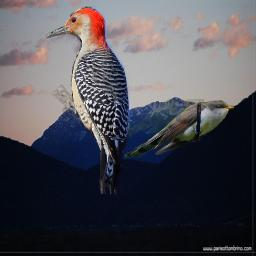Cuckoo: (122, 99, 234, 158)
Woodpecker: (46, 6, 130, 194)
